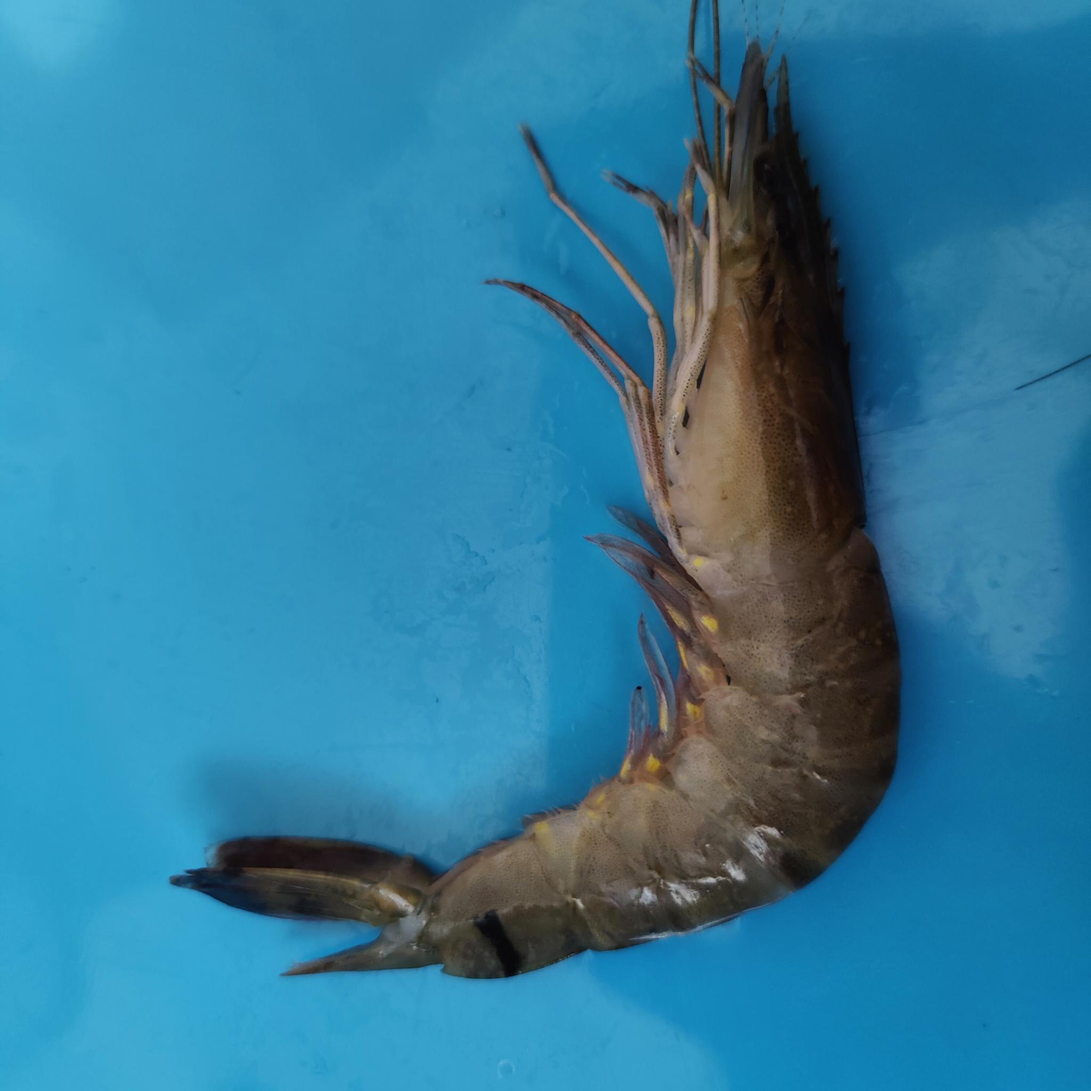whitespot: (775, 521, 891, 700), (722, 326, 815, 542)
